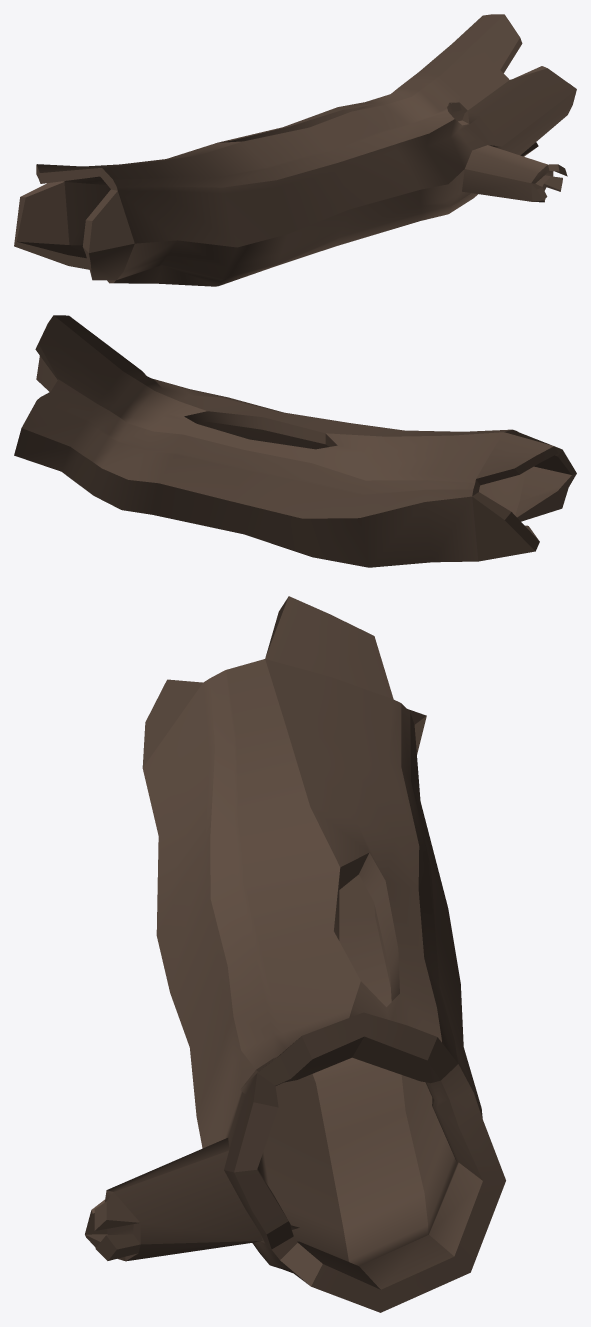
File: big tree branch.fbx
The picture shows the model from 3 angles, top to bottom: view 1: azimuth 30°, elevation 25°; view 2: azimuth 150°, elevation 25°; view 3: azimuth 270°, elevation 25°; orthographic projection. The views are drawn at different scales.
Visible parts, largest first — view 1: pPipe1; view 2: pPipe1; view 3: pPipe1.
Boxes of the visible parts, x1=… form: pPipe1: x1=14, y1=14, x2=576, y2=286; pPipe1: x1=14, y1=315, x2=576, y2=567; pPipe1: x1=85, y1=596, x2=505, y2=1312.
Size of the model in its own units: 313 by 105 by 109.
